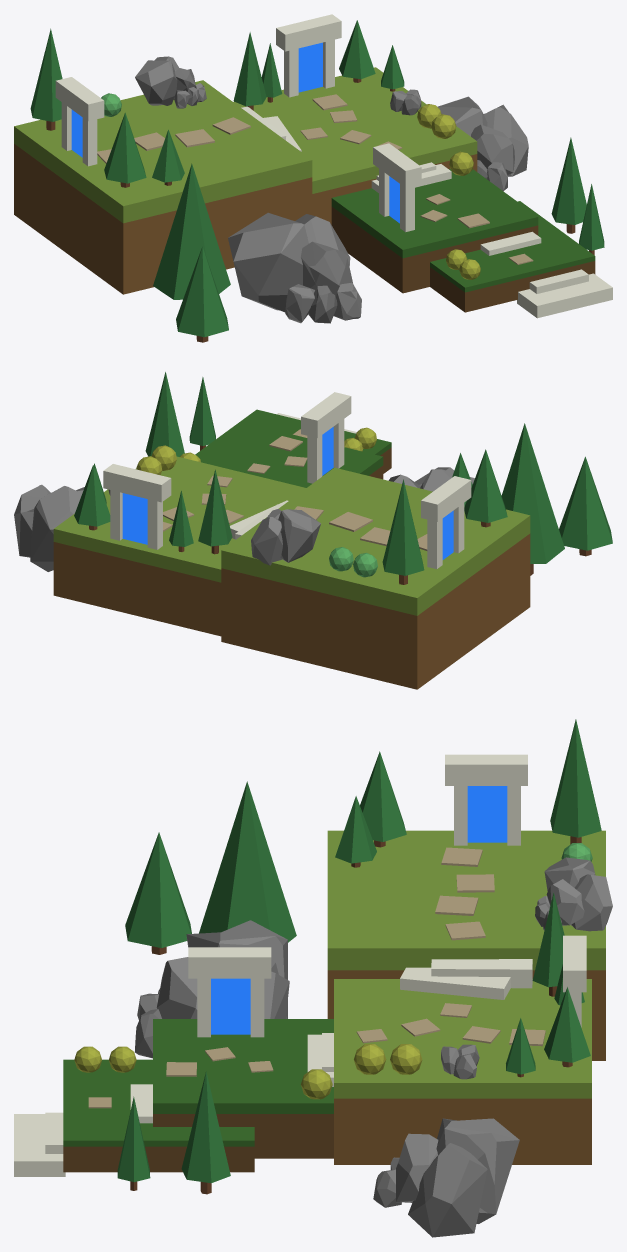
The model's file is environment.glb.
3 renders of one model, top to bottom at view 1: azimuth 30°, elevation 25°; view 2: azimuth 150°, elevation 25°; view 3: azimuth 270°, elevation 25°, orthographic. The views are drawn at different scales.
Parts seen in each view (by area): view 1: terrain, terrain.002, terrain.001, terrain.003, rocks.015, trees.009, trees.010, stairs, rocks.012, trees.007, trees.002, trees (+32 smaller); view 2: terrain, terrain.001, terrain.002, trees.009, trees.010, rocks.010, trees.002, trees, gates.005, rocks.007, trees.007, terrain.003 (+22 smaller); view 3: terrain.001, terrain, terrain.002, terrain.003, trees.009, rocks.018, trees.010, rocks.010, trees.002, trees.007, gates.002, gates.008 (+32 smaller).
Part boxes in pixels (box(x1,y1,x2,y2)): terrain: box(14, 80, 312, 294); terrain.002: box(331, 169, 538, 293); terrain.001: box(233, 67, 477, 224); terrain.003: box(430, 201, 595, 312); rocks.015: box(228, 212, 308, 312); trees.009: box(153, 163, 230, 299); trees.010: box(176, 246, 228, 342); stairs: box(517, 273, 612, 318); rocks.012: box(301, 241, 352, 296); trees.007: box(551, 137, 586, 233); trees.002: box(30, 28, 62, 130); trees: box(104, 112, 146, 187); terrain: box(221, 467, 530, 689); terrain.001: box(53, 456, 306, 636); terrain.002: box(197, 422, 383, 487); trees.009: box(501, 423, 564, 575); trees.010: box(559, 456, 612, 556); rocks.010: box(30, 486, 81, 571); trees.002: box(382, 479, 424, 584); trees: box(464, 449, 507, 527); gates.005: box(103, 464, 171, 502); rocks.007: box(278, 509, 320, 562); trees.007: box(145, 372, 184, 456); terrain.003: box(195, 409, 391, 473); terrain.001: box(334, 979, 591, 1164); terrain: box(327, 830, 605, 1060); terrain.002: box(153, 1019, 333, 1158); terrain.003: box(63, 1059, 254, 1172); trees.009: box(199, 781, 296, 942); rocks.018: box(408, 1143, 487, 1237); trees.010: box(125, 832, 191, 954); rocks.010: box(436, 1118, 519, 1223); trees.002: box(550, 719, 601, 844); trees.007: box(181, 1071, 230, 1194); gates.002: box(188, 947, 271, 978); gates.008: box(445, 754, 527, 785).
Size of what is drawn, in the model's own units: 18.64 by 8.29 by 16.41.
